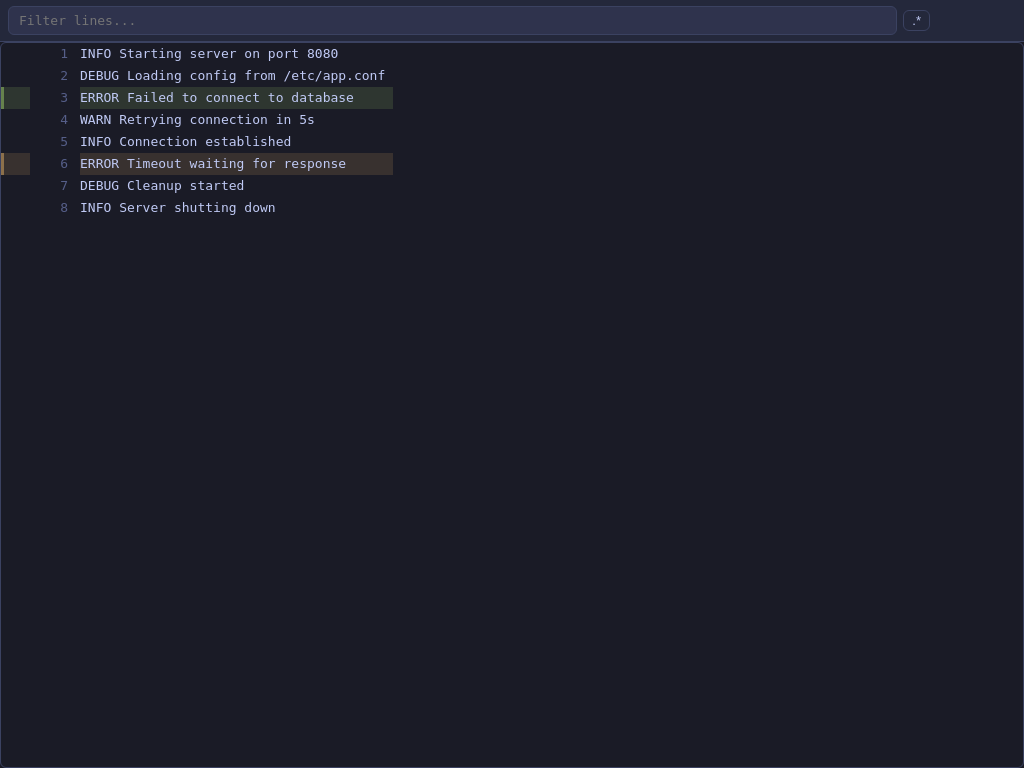
LogViewer Context Expansion › expand all shows context for all matches
Type "ERROR" into the field with placeholder "Filter lines..." at [453, 20], box [8,6,897,35]
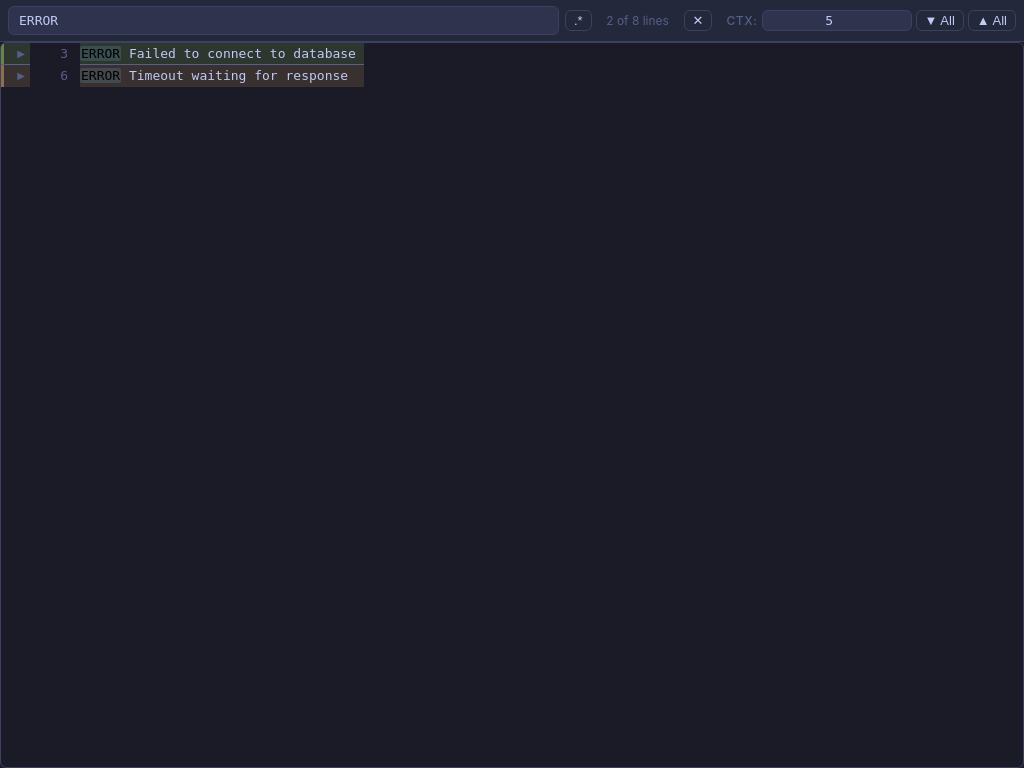
Now the number of buttons with class "log-line" is 2, box [1,43,364,65]; [1,65,364,87]
Click the button titled "Expand all matches" at [940, 20], box [916,10,964,31]
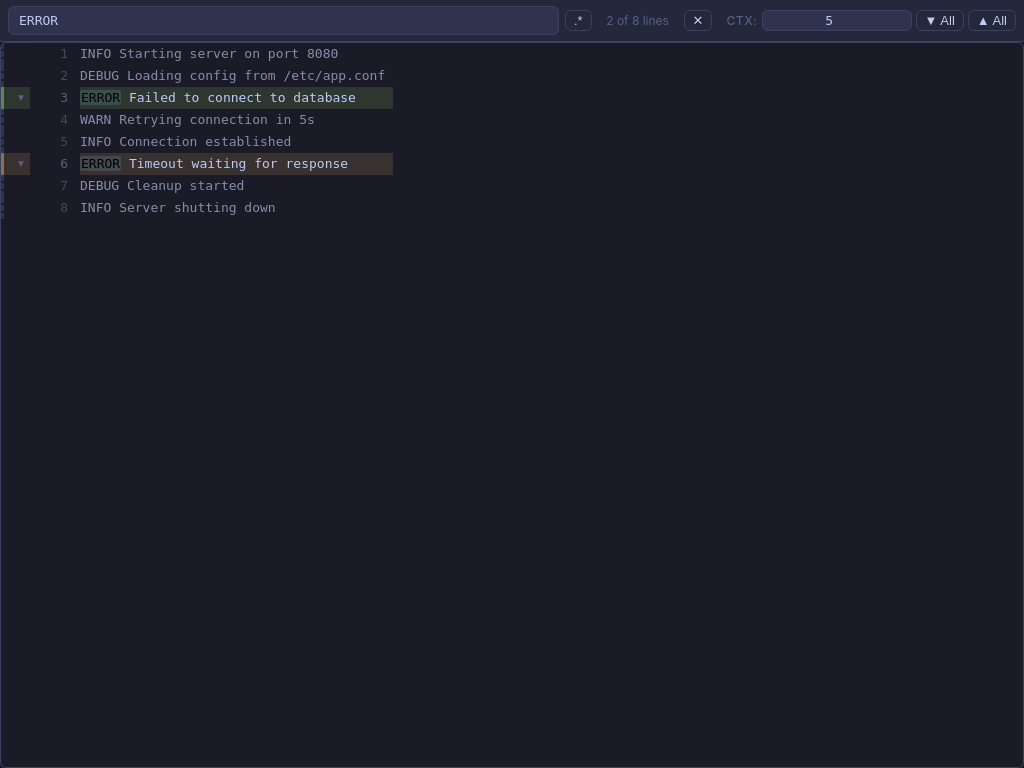
Now the number of buttons with class "log-line" is 8
